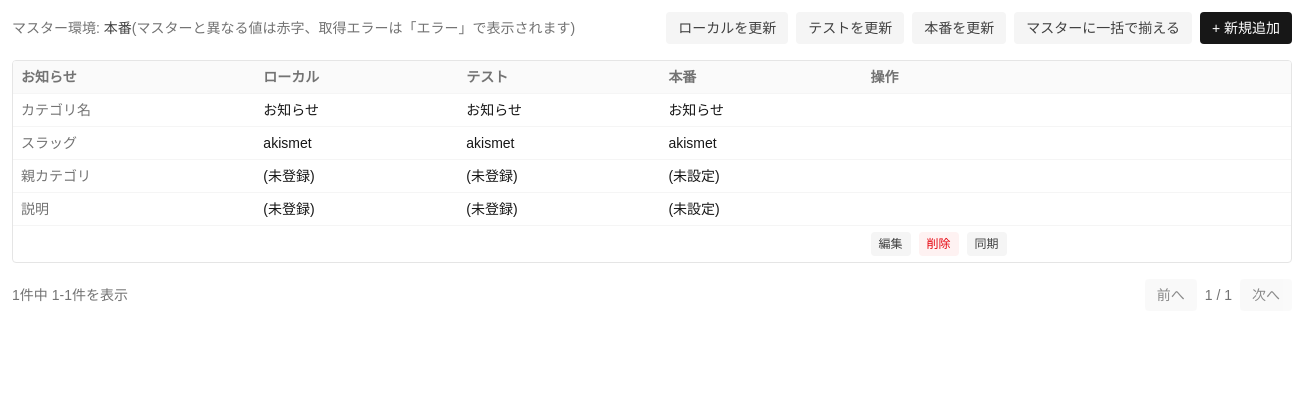
Test case: TermComparisonTable › 編集ボタンを再度押すと編集フォームを閉じる
Click the button "編集" at (890, 244), box [870,232,910,256]
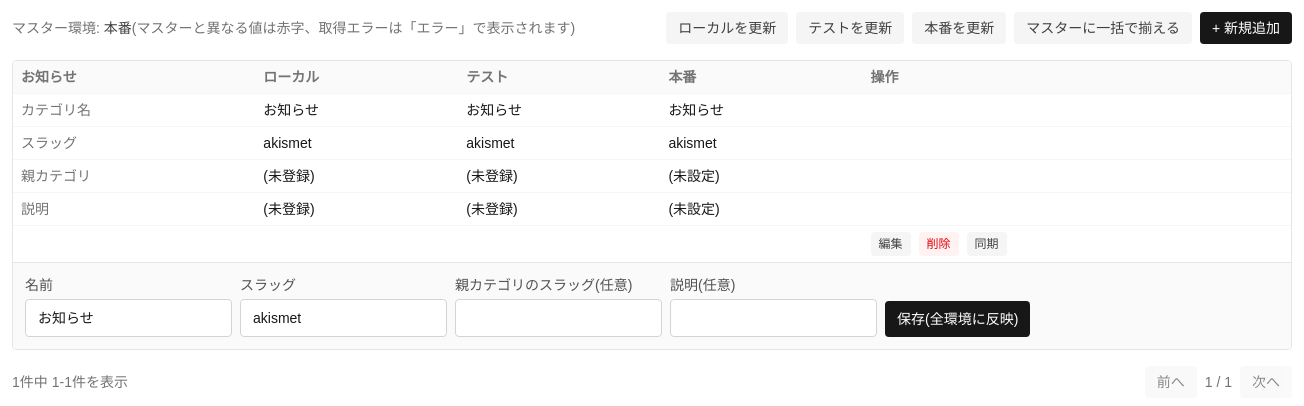
Expected: the button "保存(全環境に反映)" is shown, [885,301,1030,337]
Click the button "編集" at (890, 244), box [870,232,910,256]
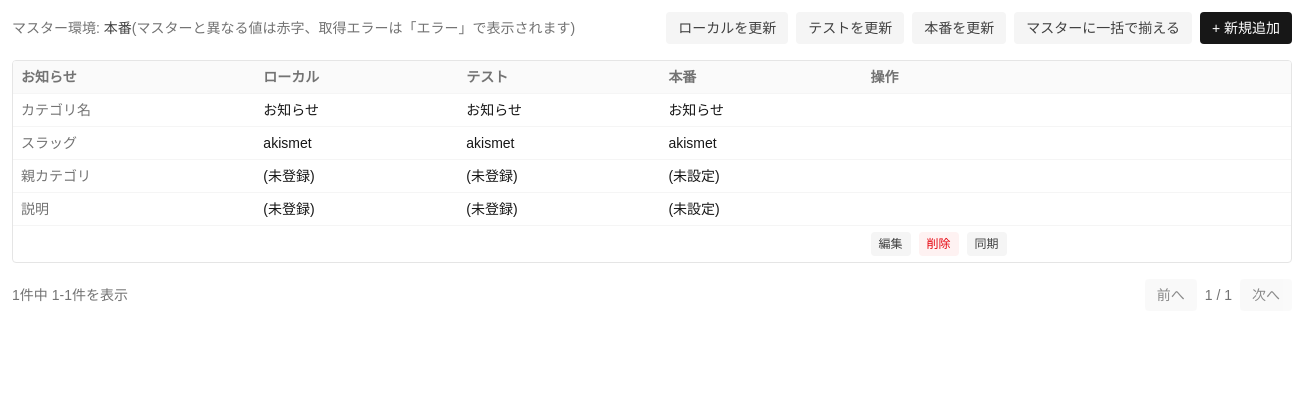
Expected: the button "保存(全環境に反映)" is gone
